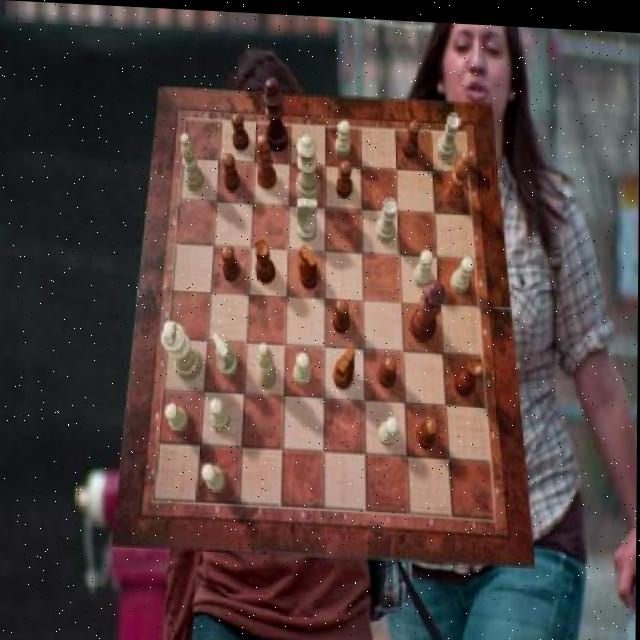bishop: (443, 146, 470, 203), (256, 132, 276, 187)
black-bishop: (262, 74, 289, 150)
black-king: (333, 343, 355, 386), (299, 241, 320, 286)
black-knight: (221, 241, 240, 280), (403, 115, 421, 156), (417, 414, 439, 447), (231, 109, 249, 148), (378, 352, 398, 386), (223, 151, 240, 190), (333, 295, 351, 331), (335, 157, 351, 196)
black-pawn: (409, 273, 445, 337)
black-queen: (454, 351, 484, 392), (254, 235, 276, 282)
black-rook: (180, 131, 204, 189), (257, 340, 278, 386)
white-bishop: (161, 319, 203, 378)
white-king: (212, 328, 240, 375), (296, 194, 317, 238)
white-knight: (451, 251, 474, 289), (412, 245, 433, 283), (209, 395, 230, 429), (165, 401, 188, 431), (202, 462, 225, 491), (294, 349, 312, 384), (334, 115, 350, 154), (378, 413, 398, 441)
white-pawn: (296, 131, 321, 199)
white-queen: (437, 109, 461, 157), (375, 192, 398, 239)
